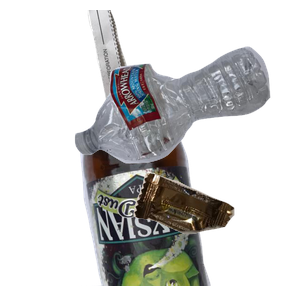glass: (78, 120, 281, 300)
paper: (85, 10, 224, 190)
plastic: (72, 44, 300, 200)
trash: (131, 171, 300, 300)
